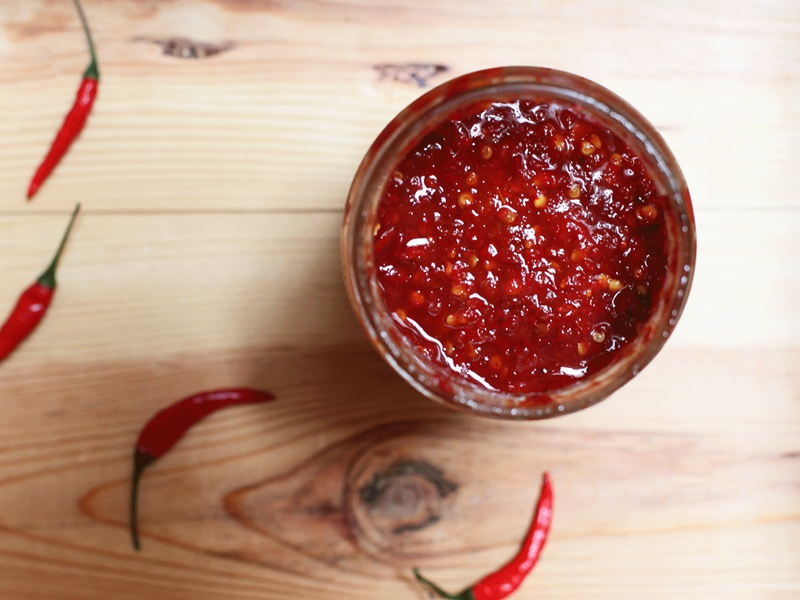sambal: (379, 105, 660, 385)
